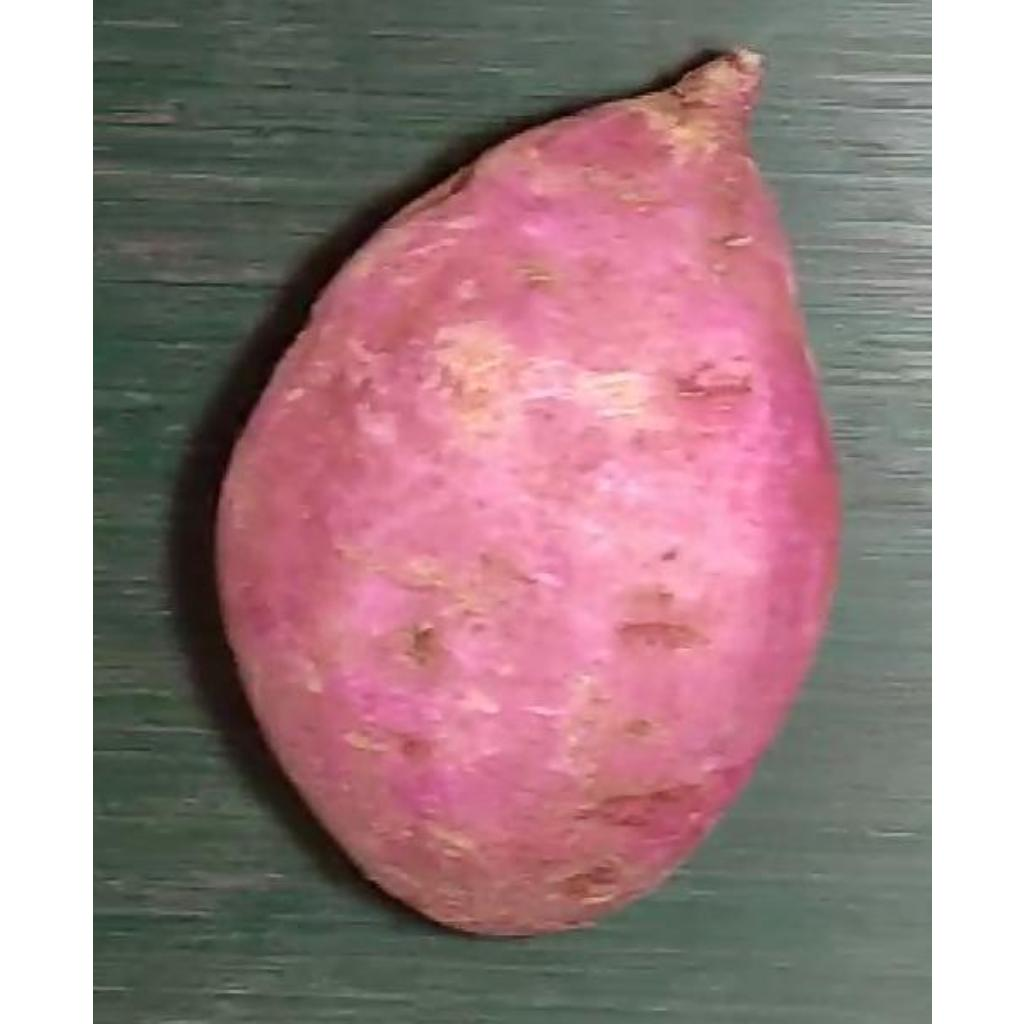Sweet Potato: (215, 48, 845, 944)
